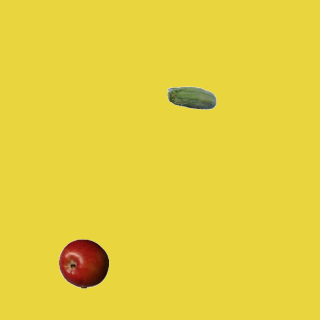Apple Braeburn: (58, 238, 108, 288)
Corn Husk: (166, 74, 216, 124)
